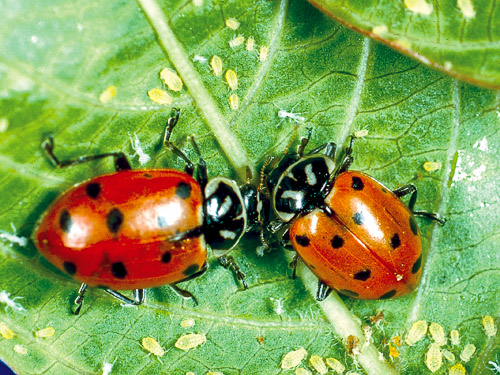convergent lady beetle: (34, 134, 258, 320), (275, 146, 449, 305)
